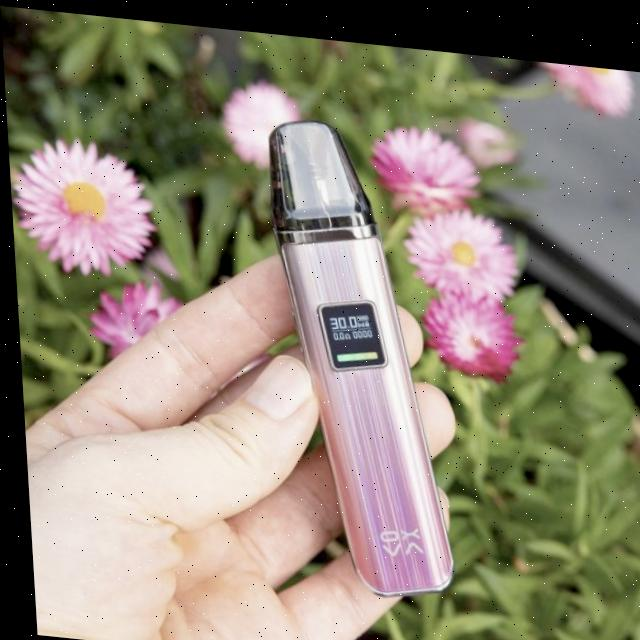vape: (263, 108, 449, 594)
